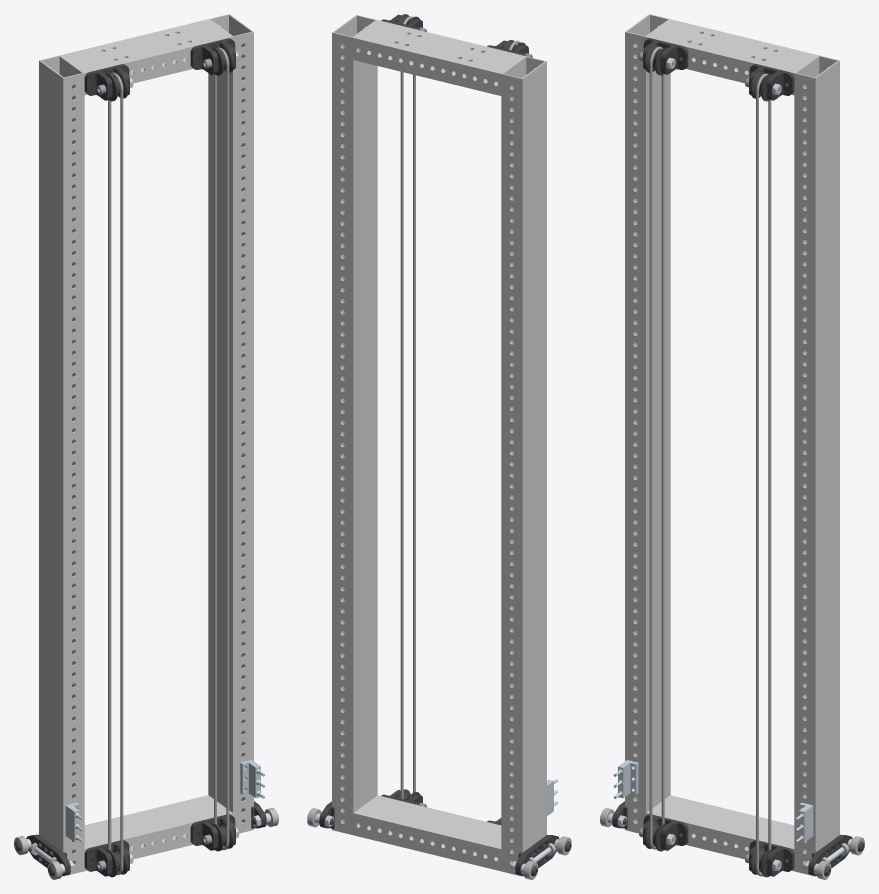
The picture shows the model from 3 angles, left to right: view 1: azimuth 30°, elevation 25°; view 2: azimuth 150°, elevation 25°; view 3: azimuth 330°, elevation 25°; orthographic projection.
Visible parts, largest first — view 1: Tube 2"x1"x36" (×2), Dyneema Rope (×2), Tube 2"x1"x7" (×2), 4mm Dyneema Cable Pulley Bracket ELEV-PULLEY-001 (×4), 25 Chain Attachment Part (ELEV-DRIVE-001) (×2), Sliding Bearing Block Plate - SLIDE-001; view 2: Tube 2"x1"x36" (×2), Tube 2"x1"x7" (×2), Dyneema Rope, Sliding Bearing Block Plate - SLIDE-001; view 3: Tube 2"x1"x36" (×2), Dyneema Rope (×2), Tube 2"x1"x7" (×2), 4mm Dyneema Cable Pulley Bracket ELEV-PULLEY-001 (×4), 25 Chain Attachment Part (ELEV-DRIVE-001) (×2), Sliding Bearing Block Plate - SLIDE-001.
Boxes of the visible parts, bbox=[...] form: Tube 2"x1"x36" (×2): bbox=[39, 14, 253, 876]; Dyneema Rope (×2): bbox=[108, 47, 229, 875]; Tube 2"x1"x7" (×2): bbox=[60, 19, 232, 870]; 4mm Dyneema Cable Pulley Bracket ELEV-PULLEY-001 (×4): bbox=[84, 38, 235, 876]; 25 Chain Attachment Part (ELEV-DRIVE-001) (×2): bbox=[65, 760, 265, 842]; Sliding Bearing Block Plate - SLIDE-001: bbox=[26, 834, 70, 875]; Tube 2"x1"x36" (×2): bbox=[332, 15, 546, 876]; Tube 2"x1"x7" (×2): bbox=[353, 20, 525, 871]; Dyneema Rope: bbox=[400, 16, 415, 799]; Sliding Bearing Block Plate - SLIDE-001: bbox=[515, 834, 559, 875]; Tube 2"x1"x36" (×2): bbox=[625, 14, 839, 876]; Dyneema Rope (×2): bbox=[649, 46, 771, 876]; Tube 2"x1"x7" (×2): bbox=[646, 19, 818, 871]; 4mm Dyneema Cable Pulley Bracket ELEV-PULLEY-001 (×4): bbox=[643, 38, 794, 876]; 25 Chain Attachment Part (ELEV-DRIVE-001) (×2): bbox=[613, 760, 813, 842]; Sliding Bearing Block Plate - SLIDE-001: bbox=[808, 834, 852, 875].
Bounding box in the file's own units: 0.2734 × 0.919 × 0.1051.
